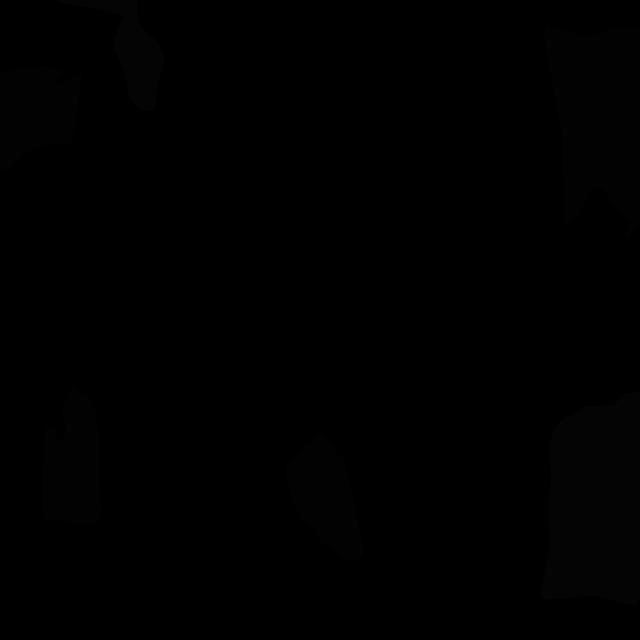cardboard: (544, 25, 640, 240), (286, 434, 363, 561), (0, 65, 82, 171), (42, 385, 102, 524)
soft_plastic: (540, 392, 640, 604), (56, 0, 164, 112)
